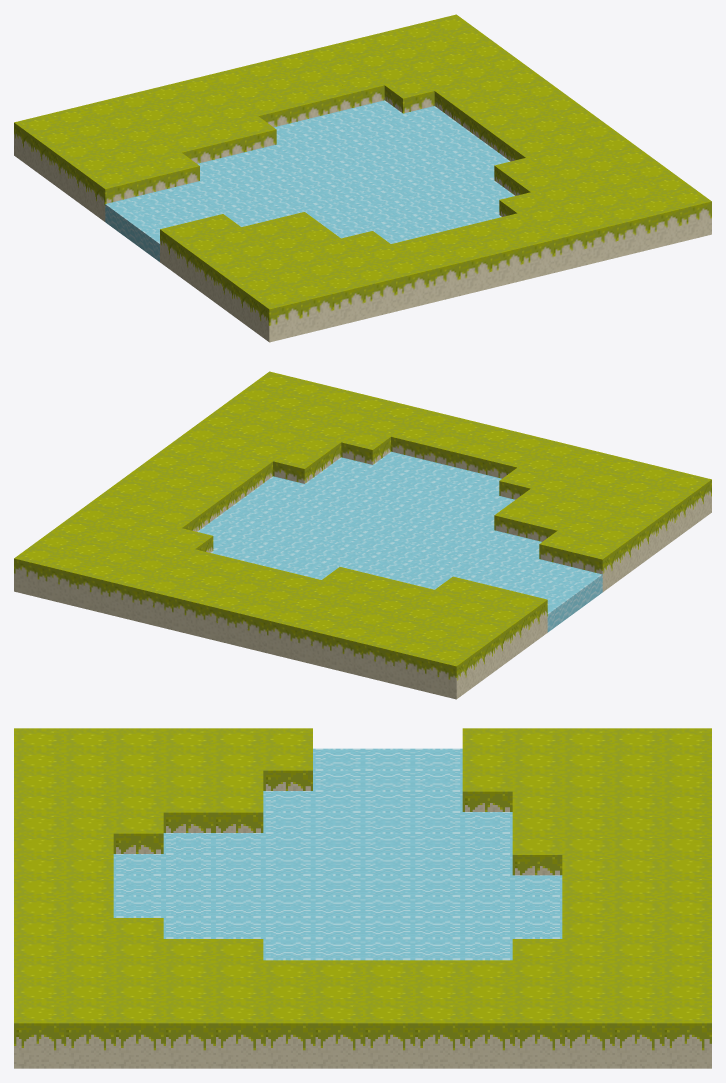
3 renders of one model, top to bottom at view 1: azimuth 30°, elevation 25°; view 2: azimuth 150°, elevation 25°; view 3: azimuth 270°, elevation 25°, orthographic. The views are drawn at different scales.
Visible parts, largest first — view 1: Ground_Grass_D__2__1__42__1; view 2: Ground_Grass_D__2__1__42__1; view 3: Ground_Grass_D__2__1__42__1.
Boxes of the visible parts, left/top/right/bottom form: Ground_Grass_D__2__1__42__1: left=14, top=14, right=711, bottom=342; Ground_Grass_D__2__1__42__1: left=14, top=371, right=711, bottom=699; Ground_Grass_D__2__1__42__1: left=14, top=728, right=711, bottom=1068.
Size of the model in its own units: 8400 by 600 by 8400.
2 materials, 2 textured.
